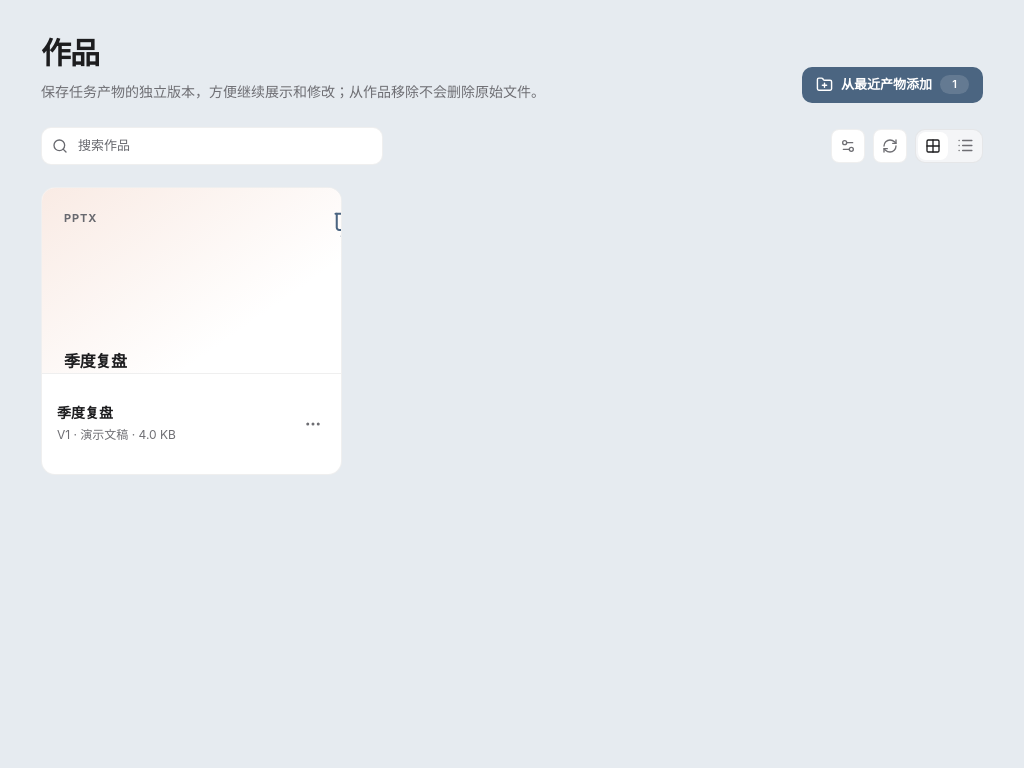
Scenario: WorksPage › keeps unsupported presentation results actionable in their preview
Click the button with aria-label "打开作品：季度复盘". click: [191, 281]
box: [42,188,341,374]
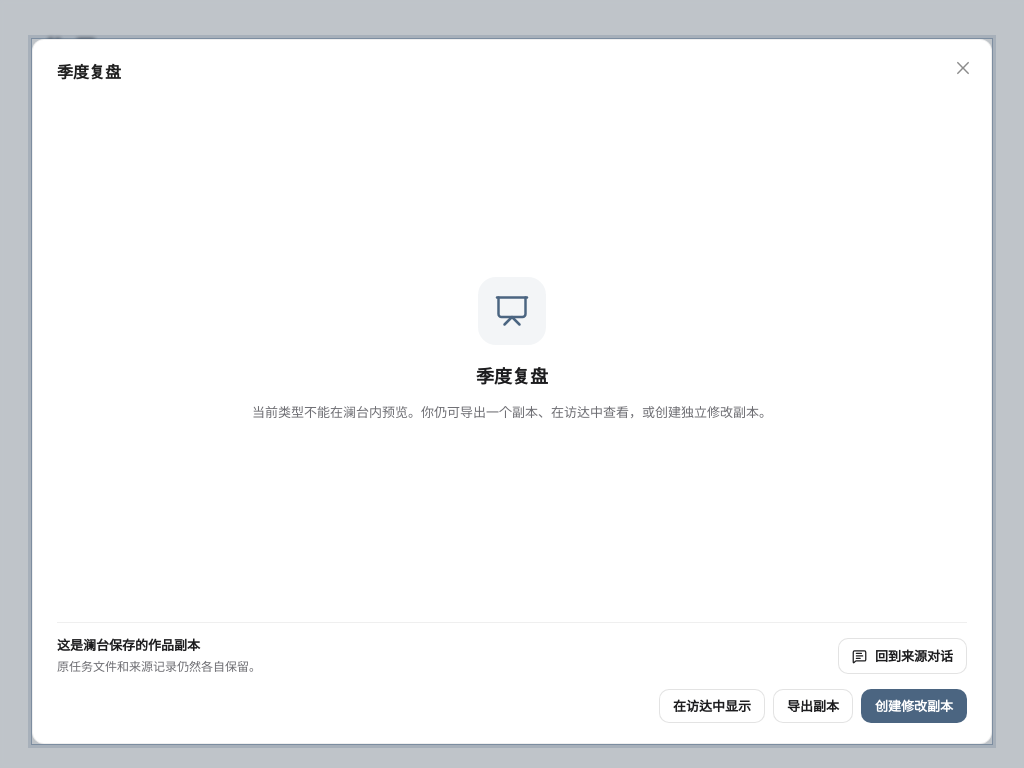
Result: the text "当前类型不能在澜台内预览。你仍可导出一个副本、在访达中查看，或创建独立修改副本。" is shown at [252,401,772,423]
Result: the button "在访达中显示" is shown at [659,689,765,723]
Result: the button "导出副本" is shown at [773,689,853,723]
